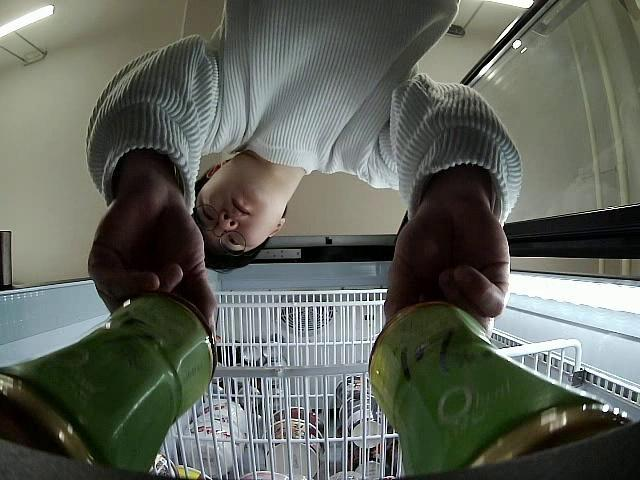19_17cha: (368, 299, 633, 480), (0, 288, 215, 474)
